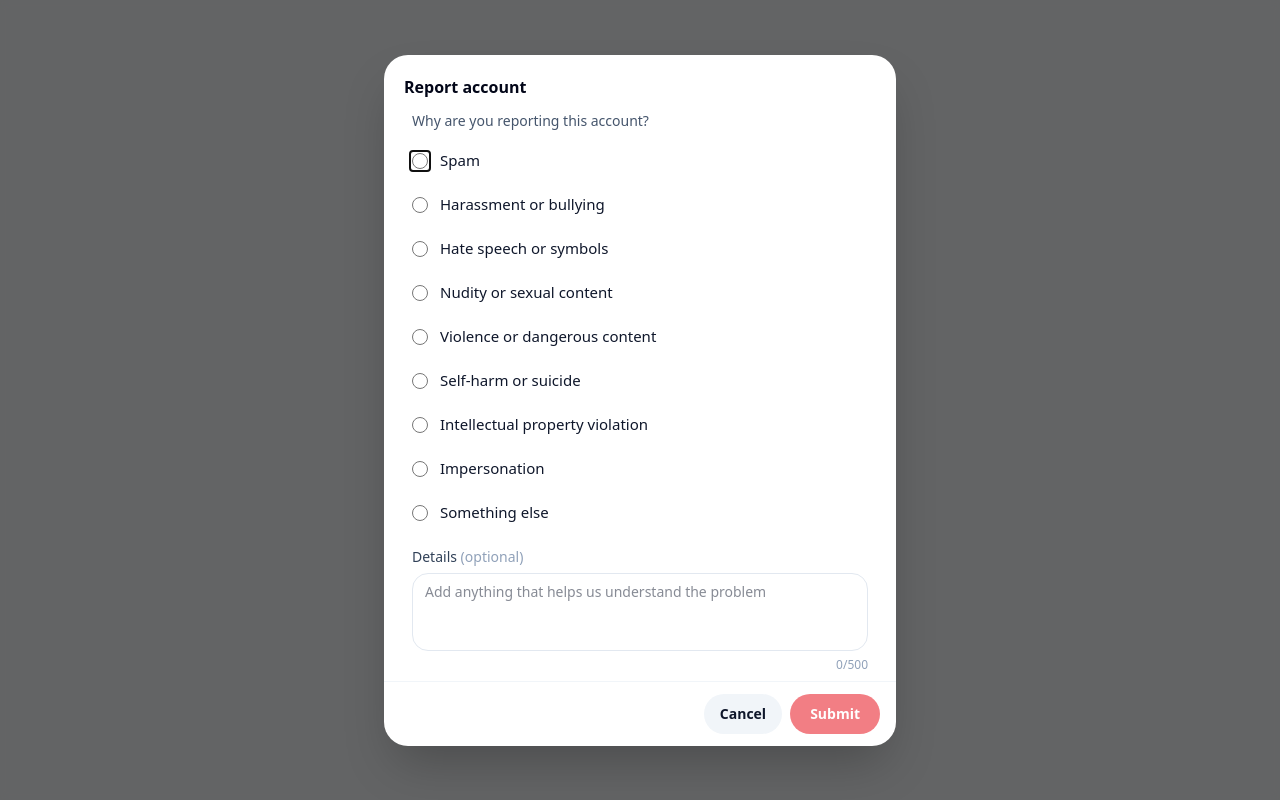
Test case: ReportSheet › lists the reasons and keeps Submit disabled until one is chosen
Check: the dialog "Report account" is shown, box [384, 54, 896, 746]
Check: the button "Submit" is disabled, box [790, 694, 880, 734]
Click the radio button labelled "Spam" at (420, 160), box [412, 152, 428, 168]
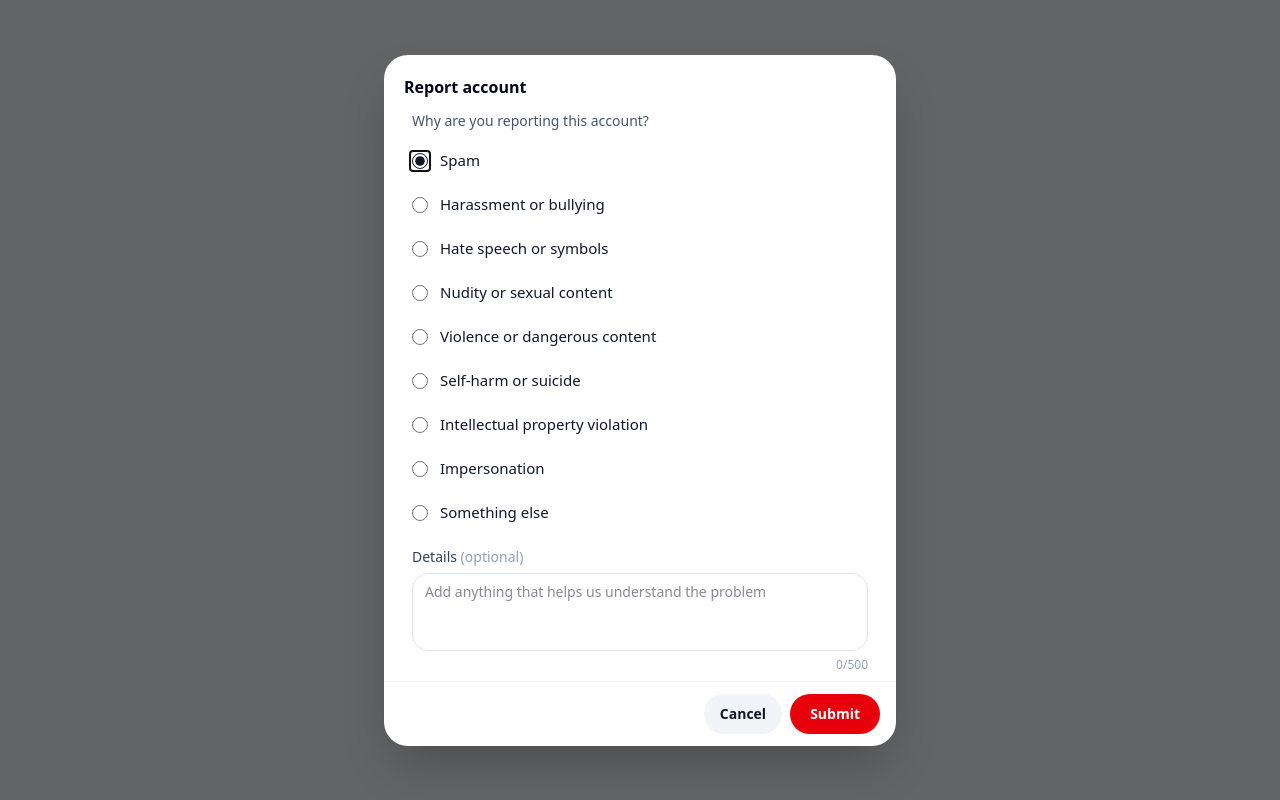
Check: the button "Submit" is enabled, box [790, 694, 880, 734]
